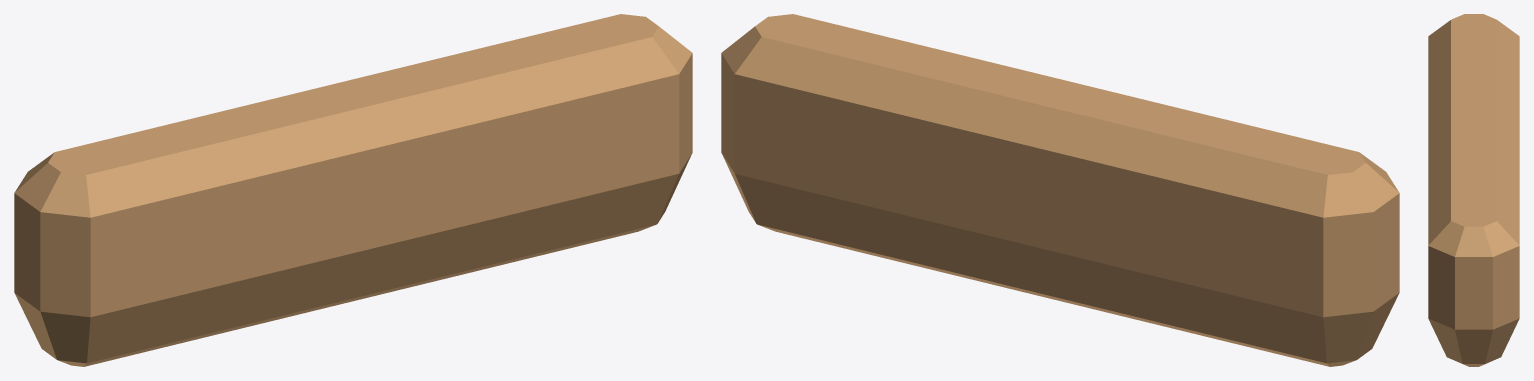
The model's file is Balcony_Base_Straight.obj.
3 renders of one model, left to right at view 1: azimuth 30°, elevation 25°; view 2: azimuth 150°, elevation 25°; view 3: azimuth 270°, elevation 25°, orthographic. The views are drawn at different scales.
Visible parts, largest first — view 1: object1; view 2: object1; view 3: object1.
Boxes of the visible parts, bbox=[...] form: object1: bbox=[14, 14, 692, 366]; object1: bbox=[721, 14, 1399, 366]; object1: bbox=[1428, 14, 1519, 366].
Bounding box in the file's own units: 1.2 × 0.35 × 0.2.
